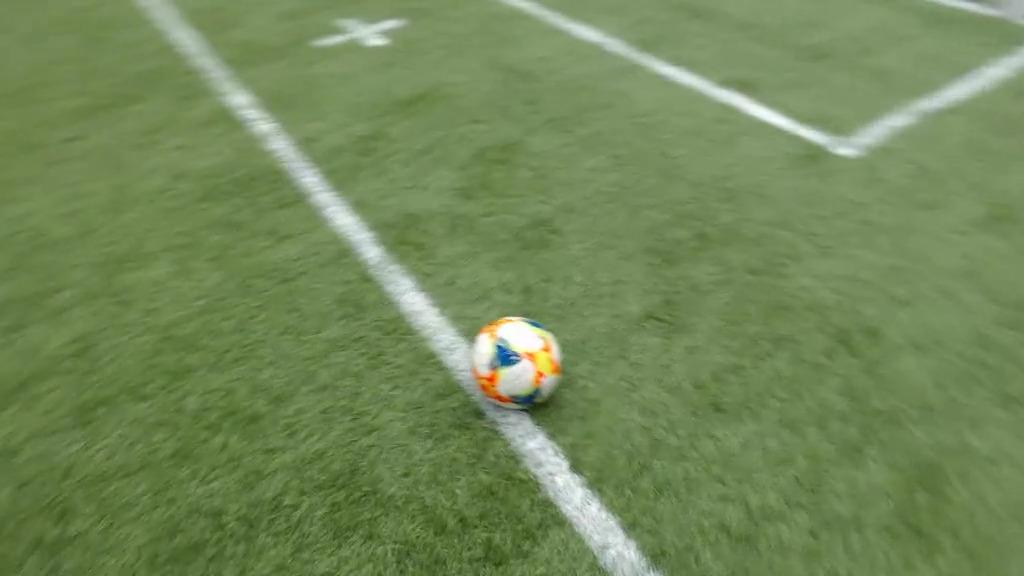ball: (473, 317, 563, 407)
